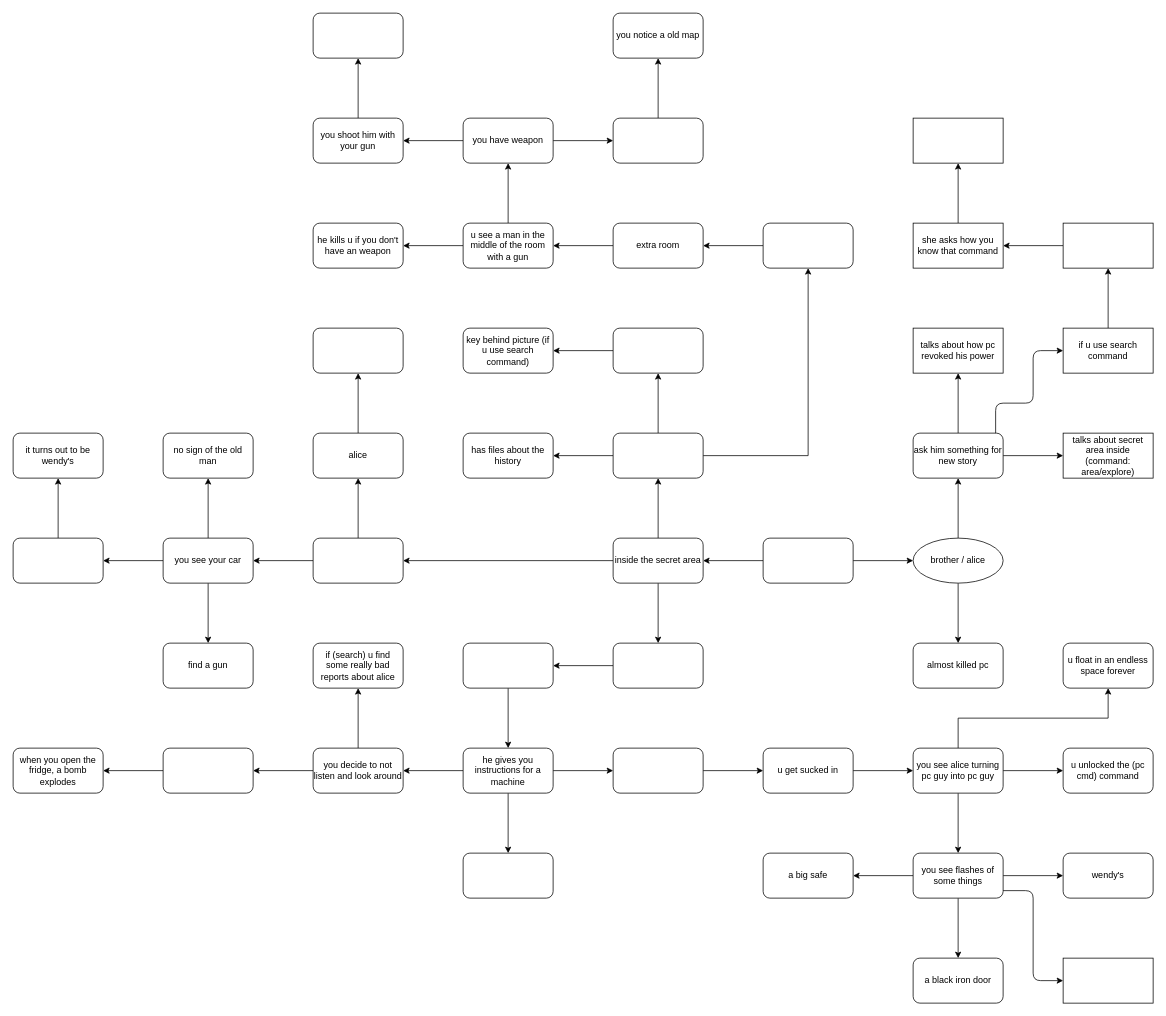
The diagram is 1166 pixels wide and 1016 high, and some of its shapes have lost their labels. The shapes that lost their labels are listed below. From the top down, each one's box as (x1, y1, x2, y2) in pixels, then its label:
(312, 12, 403, 58): u didn't investigate if he was dead, and he isn't. he shoots u
(612, 117, 703, 163): you try to talk about life, but he kills himself
(912, 117, 1003, 163): alice get's sniped by a sniper
(762, 222, 853, 268): hidden door (search command)
(1062, 222, 1153, 268): you find a bloody key
(312, 327, 403, 373): tells you about (search) command
(612, 327, 703, 373): portret of the pc person as child
(612, 432, 703, 478): room 1
(12, 537, 103, 583): if you have map, alice will drive you to the location
(312, 537, 403, 583): secret exit
(762, 537, 853, 583): the pc
(462, 642, 553, 688): u find a little boy locked in a cage
(612, 642, 703, 688): room 2 (Locked)
(162, 747, 253, 793): you find a fridge
(612, 747, 703, 793): you do it and a portal activates
(462, 852, 553, 898): u use the pc (cmd command)
(1062, 957, 1153, 1003): a blinking thing
